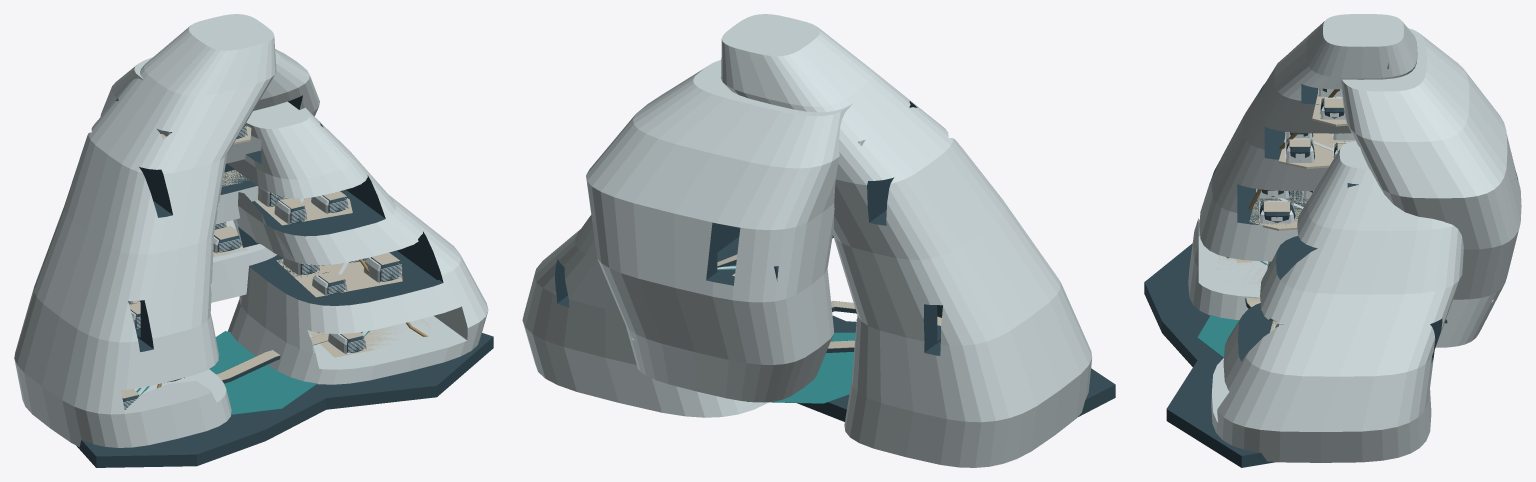
The picture shows the model from 3 angles, left to right: view 1: azimuth 30°, elevation 25°; view 2: azimuth 150°, elevation 25°; view 3: azimuth 270°, elevation 25°; orthographic projection. The views are drawn at different scales.
Parts seen in each view (by area): view 1: C_WEST_RISING_CONTINENT, C_EAST_INLAND, C_LOWEST_URBAN_DELTA, C_REAR_HANGING_CIVILIZATION, C_SHARED_INNER_SEA, C_E1_SPLIT_CITY_public_ground, C_E0_TIDAL_WORLD_public_ground, C_LOW_CONFLUENCE_public_surface, C_E2_HANGING_GARDEN_public_ground; view 2: C_WEST_RISING_CONTINENT, C_REAR_HANGING_CIVILIZATION, C_EAST_INLAND, C_SHARED_INNER_SEA, C_LOWEST_URBAN_DELTA; view 3: C_EAST_INLAND, C_REAR_HANGING_CIVILIZATION, C_WEST_RISING_CONTINENT, C_LOWEST_URBAN_DELTA, C_SHARED_INNER_SEA, C_W2_UPPER_CONCOURSE_public_ground, C_W1_RISING_GARDENS_public_ground.
Part boxes in pixels (box(x1,y1,x2,y2)): C_WEST_RISING_CONTINENT: box(14, 14, 276, 447); C_EAST_INLAND: box(224, 101, 488, 384); C_LOWEST_URBAN_DELTA: box(77, 333, 493, 467); C_REAR_HANGING_CIVILIZATION: box(100, 49, 319, 302); C_SHARED_INNER_SEA: box(209, 331, 316, 414); C_E1_SPLIT_CITY_public_ground: box(276, 259, 402, 297); C_E0_TIDAL_WORLD_public_ground: box(307, 319, 429, 357); C_LOW_CONFLUENCE_public_surface: box(216, 333, 328, 380); C_E2_HANGING_GARDEN_public_ground: box(255, 197, 352, 225); C_WEST_RISING_CONTINENT: box(721, 14, 1092, 467); C_REAR_HANGING_CIVILIZATION: box(586, 60, 858, 402); C_EAST_INLAND: box(522, 215, 768, 417); C_SHARED_INNER_SEA: box(747, 332, 855, 403); C_LOWEST_URBAN_DELTA: box(797, 315, 1115, 421); C_EAST_INLAND: box(1211, 140, 1463, 462); C_REAR_HANGING_CIVILIZATION: box(1341, 28, 1521, 347); C_WEST_RISING_CONTINENT: box(1188, 14, 1417, 319); C_LOWEST_URBAN_DELTA: box(1144, 243, 1276, 467); C_SHARED_INNER_SEA: box(1197, 315, 1239, 357); C_W2_UPPER_CONCOURSE_public_ground: box(1278, 133, 1354, 168); C_W1_RISING_GARDENS_public_ground: box(1249, 191, 1308, 230).
Bounding box in the file's own units: 5840 × 4180 × 4270.
